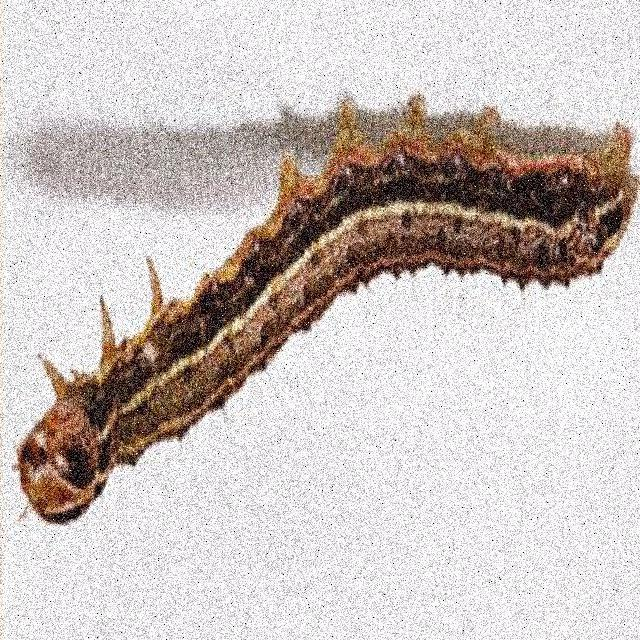worm: (17, 94, 640, 529)
